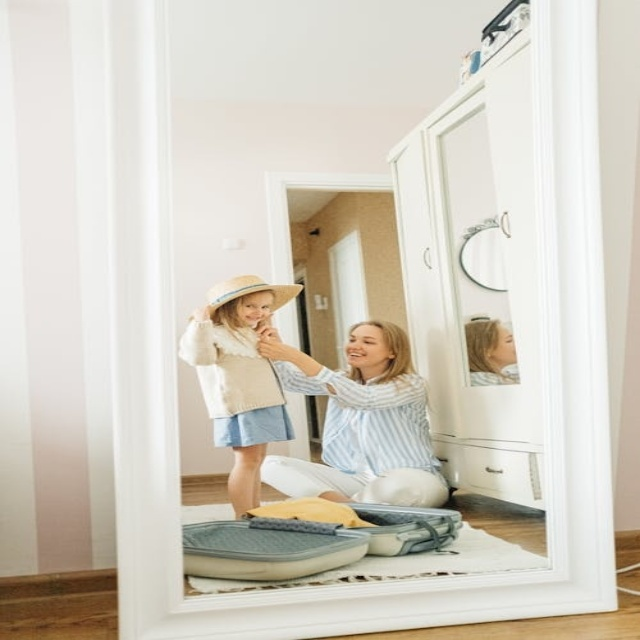Sin_gafas: (346, 331, 384, 347), (238, 300, 273, 311), (495, 333, 515, 346)
Sin_guantes: (255, 334, 301, 366)
Sin_mascara: (344, 349, 372, 366), (242, 312, 266, 326)
